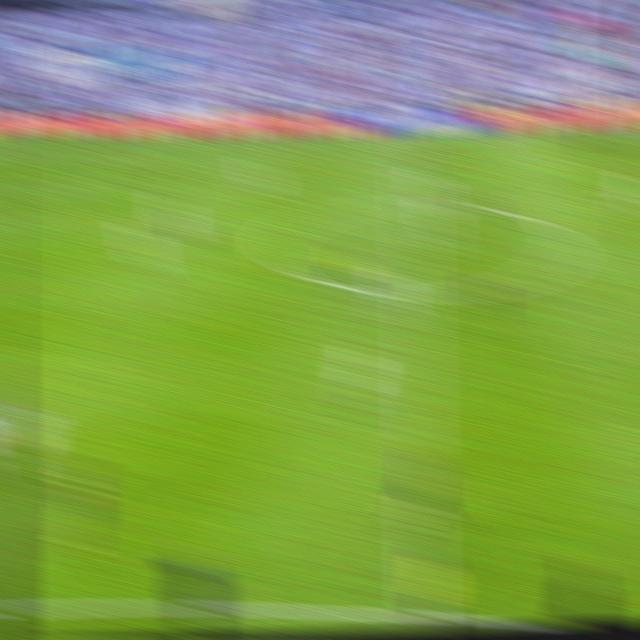halfcircle_bottom: (400, 276, 433, 309)
halfcircle_top: (400, 189, 430, 216)
midline_bottom_intersection: (405, 593, 439, 626)
midline_top_intersection: (401, 128, 429, 146)
